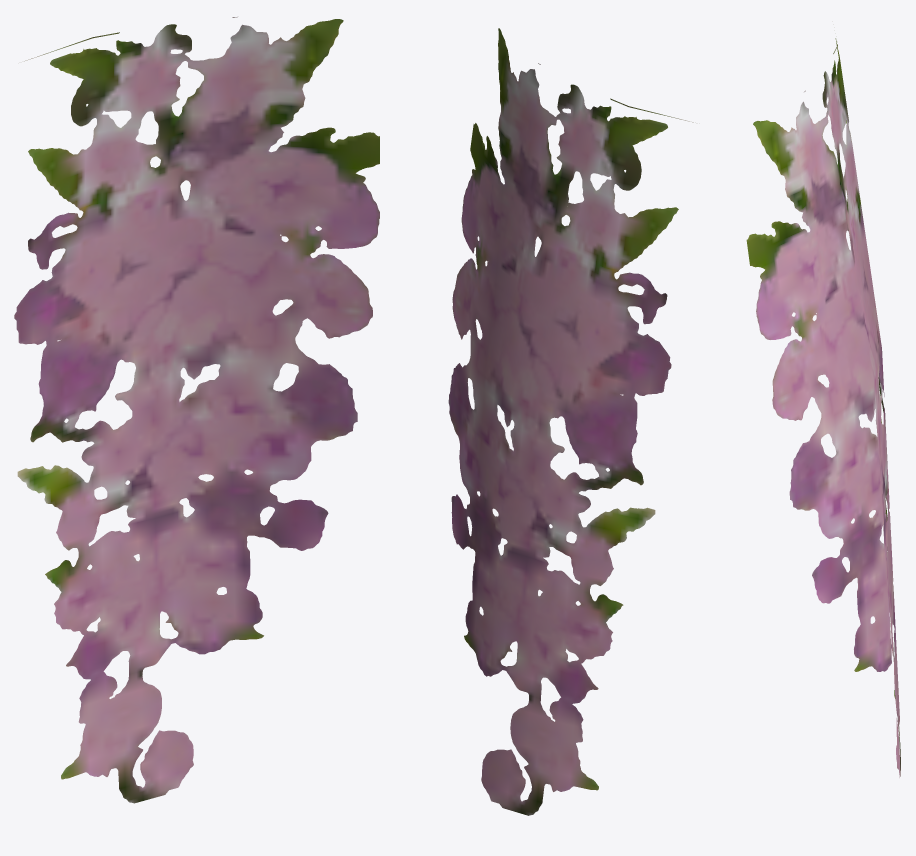
Rendered from liemo_plant_10 (17).fbx.
The picture shows the model from 3 angles, left to right: view 1: azimuth 30°, elevation 25°; view 2: azimuth 150°, elevation 25°; view 3: azimuth 270°, elevation 25°; orthographic projection. The views are drawn at different scales.
Visible parts, largest first — view 1: liemo_plant_10 (17); view 2: liemo_plant_10 (17); view 3: liemo_plant_10 (17).
Boxes of the visible parts, bbox=[...] form: liemo_plant_10 (17): bbox=[14, 17, 379, 803]; liemo_plant_10 (17): bbox=[448, 28, 693, 815]; liemo_plant_10 (17): bbox=[746, 38, 900, 777].
Bounding box in the file's own units: 0.6176 × 1.38 × 0.3025.
